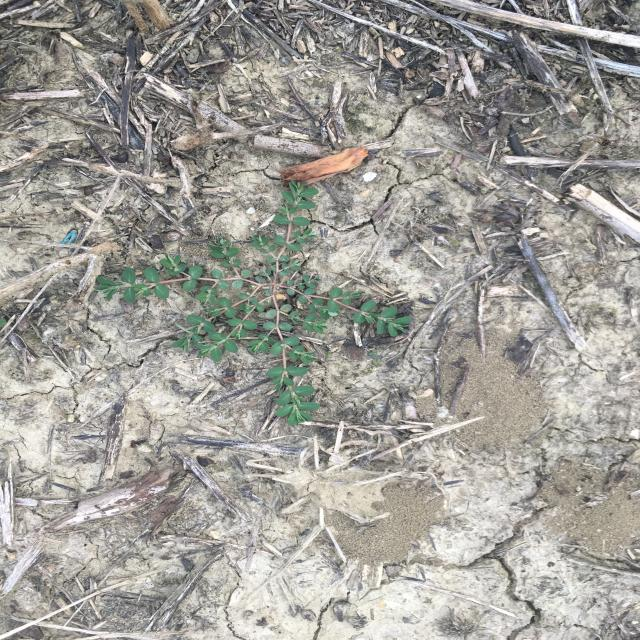SpottedSpurge: (91, 179, 413, 428)
